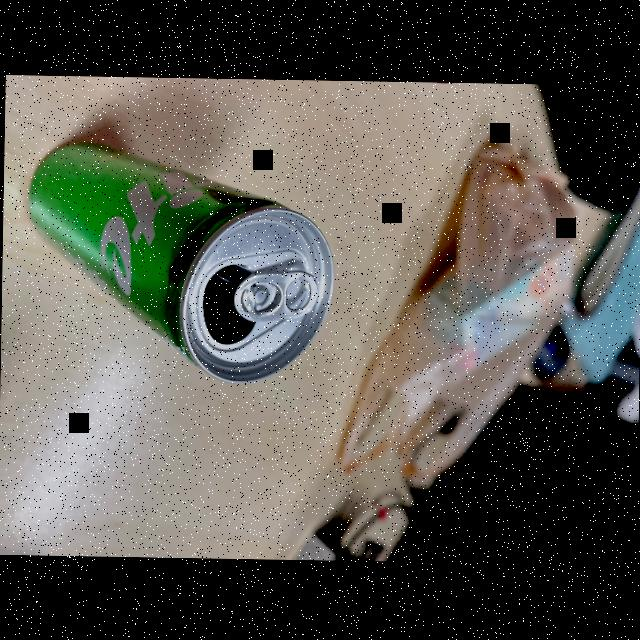can: (28, 130, 344, 384)
